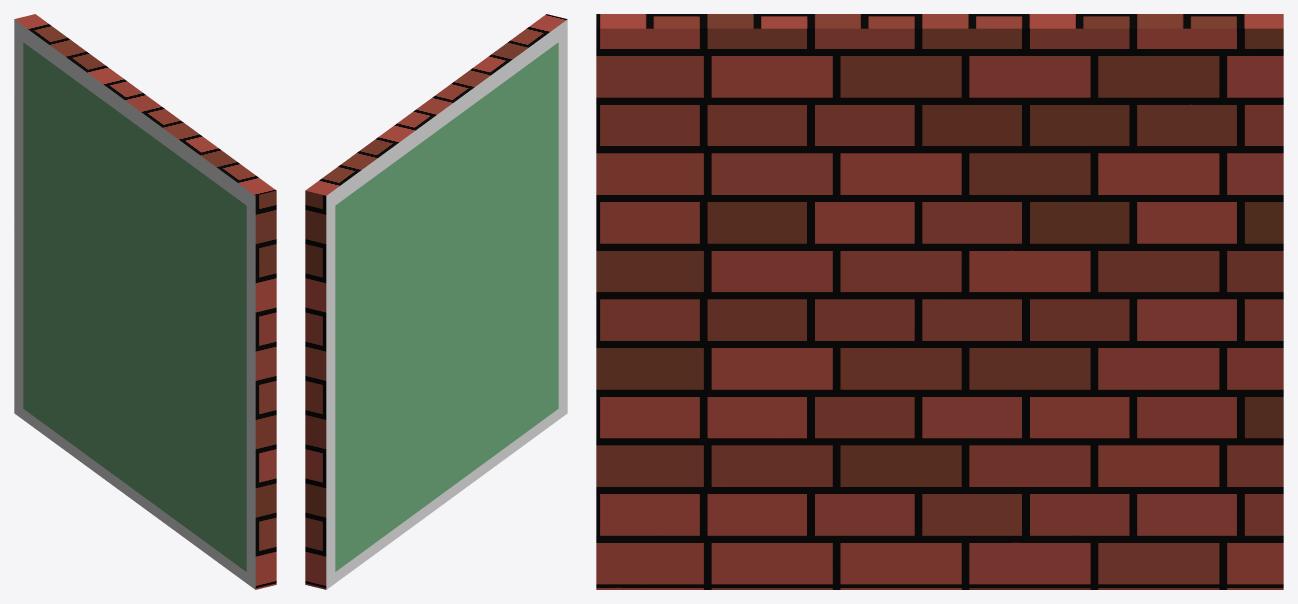
The model's file is Wall top B.fbx.
3 renders of one model, left to right at view 1: azimuth 30°, elevation 25°; view 2: azimuth 150°, elevation 25°; view 3: azimuth 270°, elevation 25°, orthographic. The views are drawn at different scales.
Parts seen in each view (by area): view 1: Wall-Top B; view 2: Wall-Top B; view 3: Wall-Top B.
Part boxes in pixels (x1,y1,x2,y2): Wall-Top B: (14, 14, 276, 589); Wall-Top B: (305, 14, 567, 589); Wall-Top B: (596, 14, 1283, 589).
Size of the model in its own units: 40.62 by 721 by 800.
